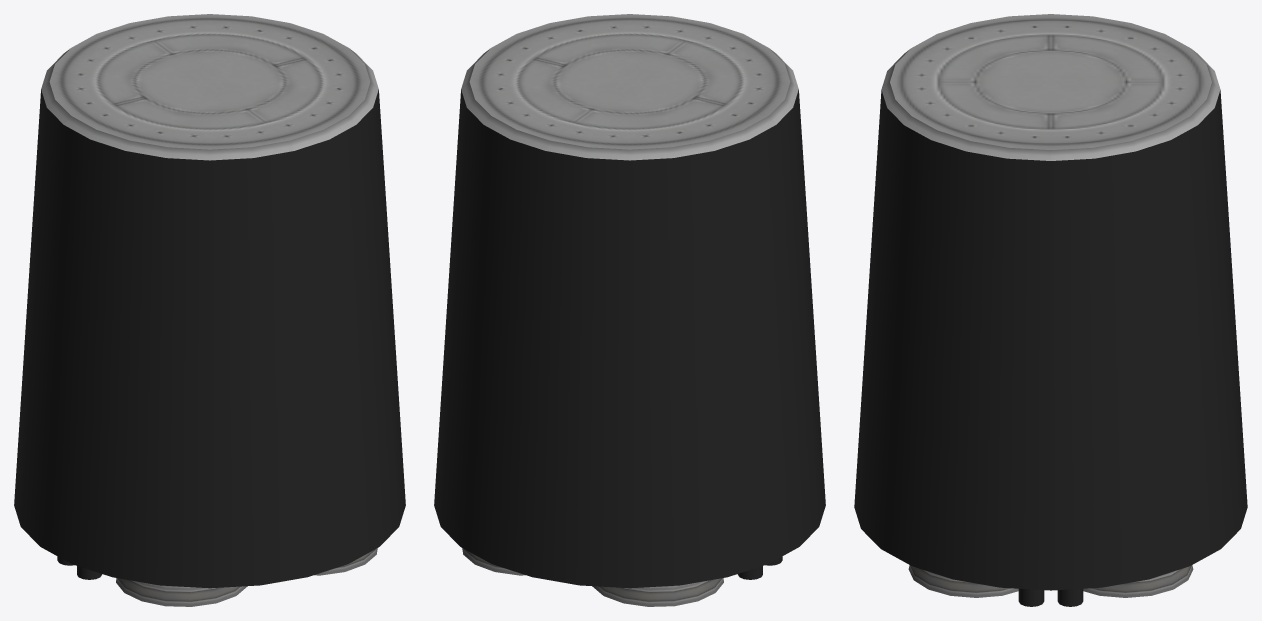
The model's file is CLV_1_Engine_1.obj.
3 renders of one model, left to right at view 1: azimuth 30°, elevation 25°; view 2: azimuth 150°, elevation 25°; view 3: azimuth 270°, elevation 25°, orthographic.
Parts seen in each view (by area): view 1: CLV_1_Engine_1, CLV_1_Engine_1_Nozzles; view 2: CLV_1_Engine_1, CLV_1_Engine_1_Nozzles; view 3: CLV_1_Engine_1, CLV_1_Engine_1_Nozzles.
Part boxes in pixels (x1,y1,x2,y2): CLV_1_Engine_1: [14, 14, 405, 588]; CLV_1_Engine_1_Nozzles: [116, 548, 377, 606]; CLV_1_Engine_1: [434, 14, 825, 588]; CLV_1_Engine_1_Nozzles: [462, 548, 723, 606]; CLV_1_Engine_1: [854, 14, 1247, 606]; CLV_1_Engine_1_Nozzles: [908, 565, 1193, 597].
Size of the model in its own units: 1.45 by 1.85 by 1.45.
